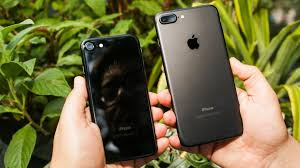iphone: (156, 4, 248, 153)
